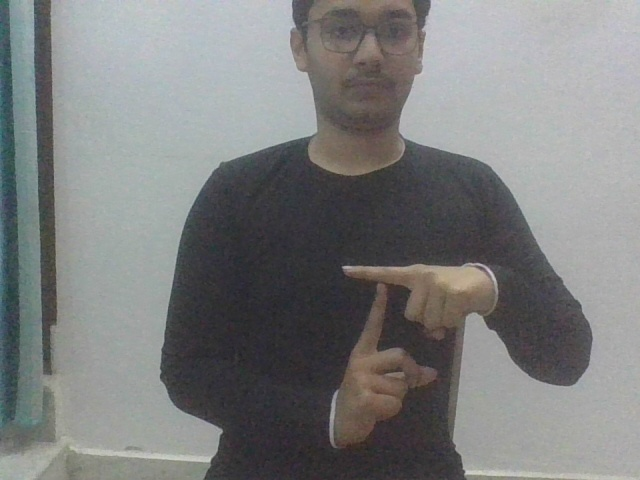T: (320, 256, 494, 452)
